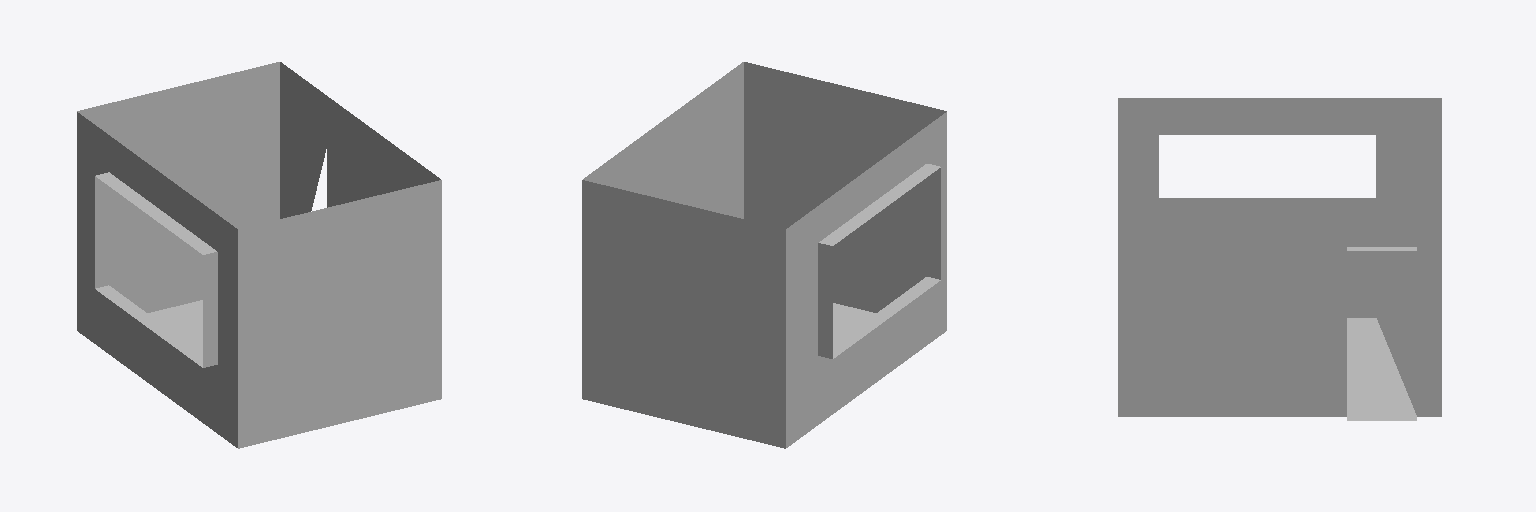
The model's file is boxroom_model.obj.
3 views of the same model, side by side, from view 1: azimuth 30°, elevation 25°; view 2: azimuth 150°, elevation 25°; view 3: azimuth 270°, elevation 25° (orthographic).
Visible parts, largest first — view 1: boxroom; view 2: boxroom; view 3: boxroom.
Boxes of the visible parts, box(x1,y1,x2,y2) form: boxroom: box(77, 62, 441, 448); boxroom: box(582, 62, 946, 448); boxroom: box(1118, 98, 1441, 420).
Bounding box in the file's own units: 0.0356 × 0.0329 × 0.044.